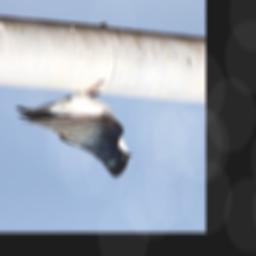Swallow: (15, 79, 132, 177)
